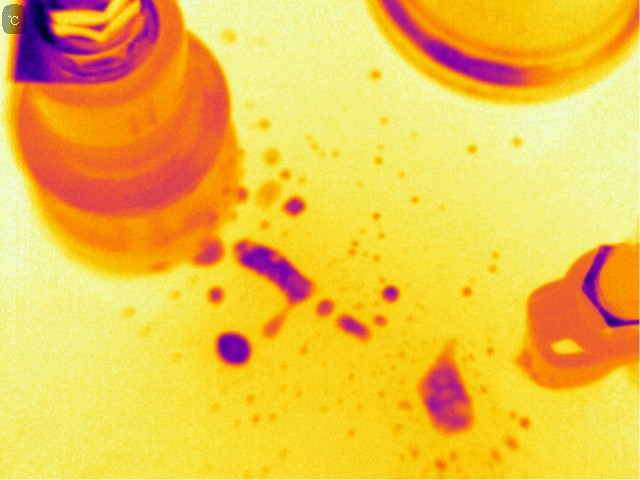Water: (231, 238, 321, 329), (419, 347, 473, 438), (217, 332, 253, 373), (332, 310, 372, 343), (502, 406, 536, 436), (190, 239, 226, 267), (422, 452, 454, 477), (282, 194, 308, 223), (499, 430, 528, 455), (380, 281, 403, 308), (258, 181, 280, 207), (458, 272, 474, 305), (394, 393, 418, 415), (315, 295, 335, 319), (221, 24, 238, 51), (368, 313, 400, 327), (487, 445, 502, 469), (345, 235, 361, 257), (511, 131, 527, 152), (253, 116, 275, 130), (207, 288, 226, 304), (265, 145, 280, 165), (404, 190, 420, 208), (369, 65, 381, 85), (467, 143, 483, 158), (367, 208, 383, 220), (377, 115, 389, 129), (375, 227, 386, 242)
